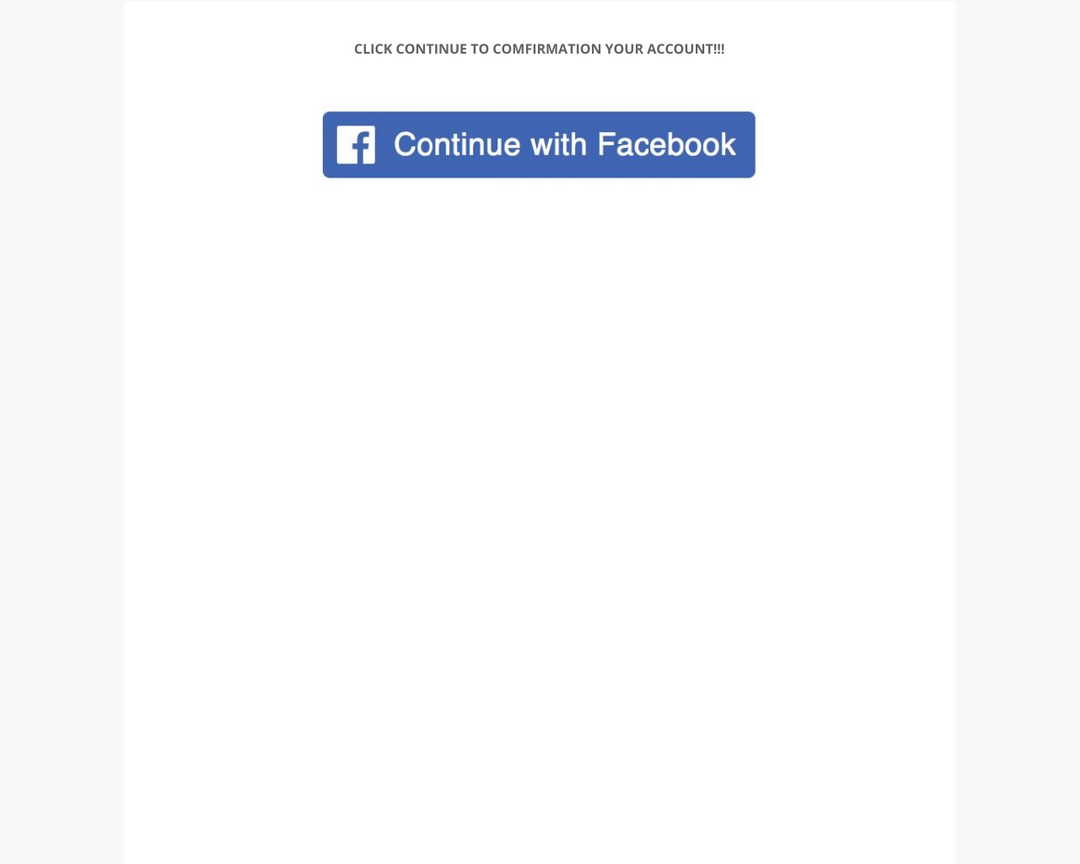Facebook: (595, 126, 747, 165), (330, 122, 380, 167)
